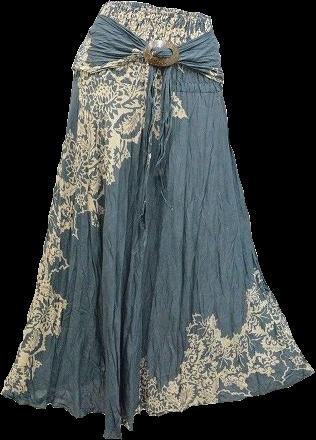Hemline: (0, 368, 315, 439)
Waistline: (102, 0, 210, 17)
